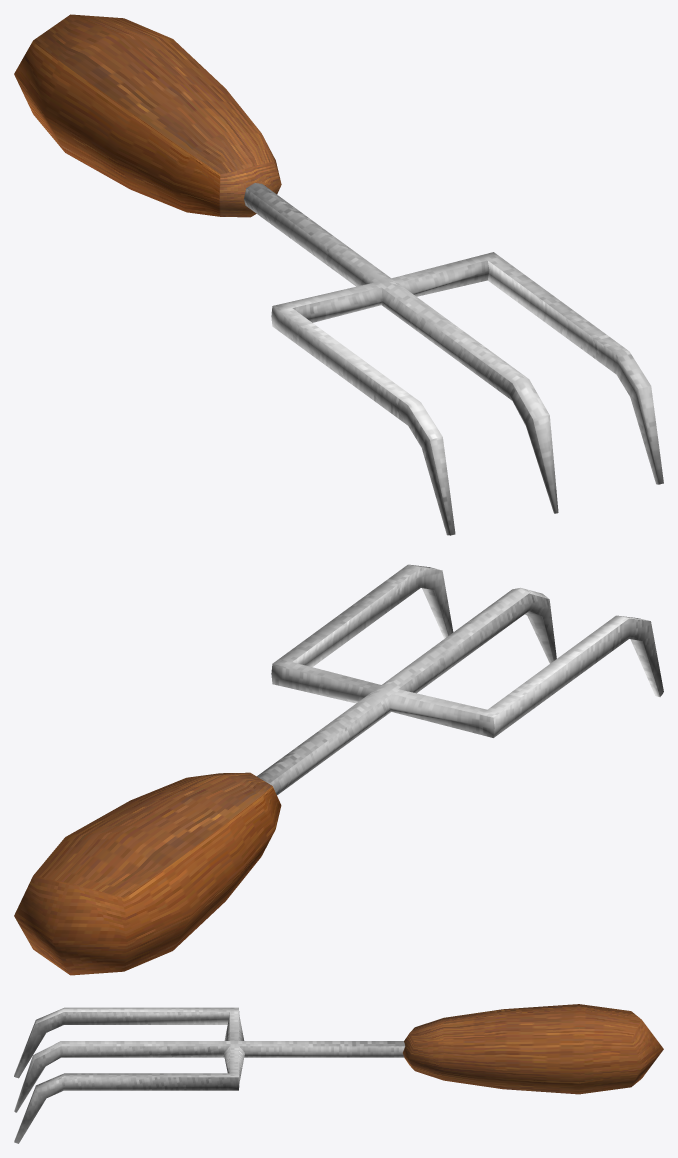
The model's file is Cultivate.fbx.
3 renders of one model, top to bottom at view 1: azimuth 30°, elevation 25°; view 2: azimuth 150°, elevation 25°; view 3: azimuth 270°, elevation 25°, orthographic. The views are drawn at different scales.
Parts seen in each view (by area): view 1: Cultivator; view 2: Cultivator; view 3: Cultivator.
Part boxes in pixels (left/top/right/bottom): Cultivator: left=14, top=14, right=663, bottom=535; Cultivator: left=14, top=564, right=663, bottom=975; Cultivator: left=14, top=1004, right=663, bottom=1143.
Bounding box in the file's own units: 53.91 × 36.54 × 211.
